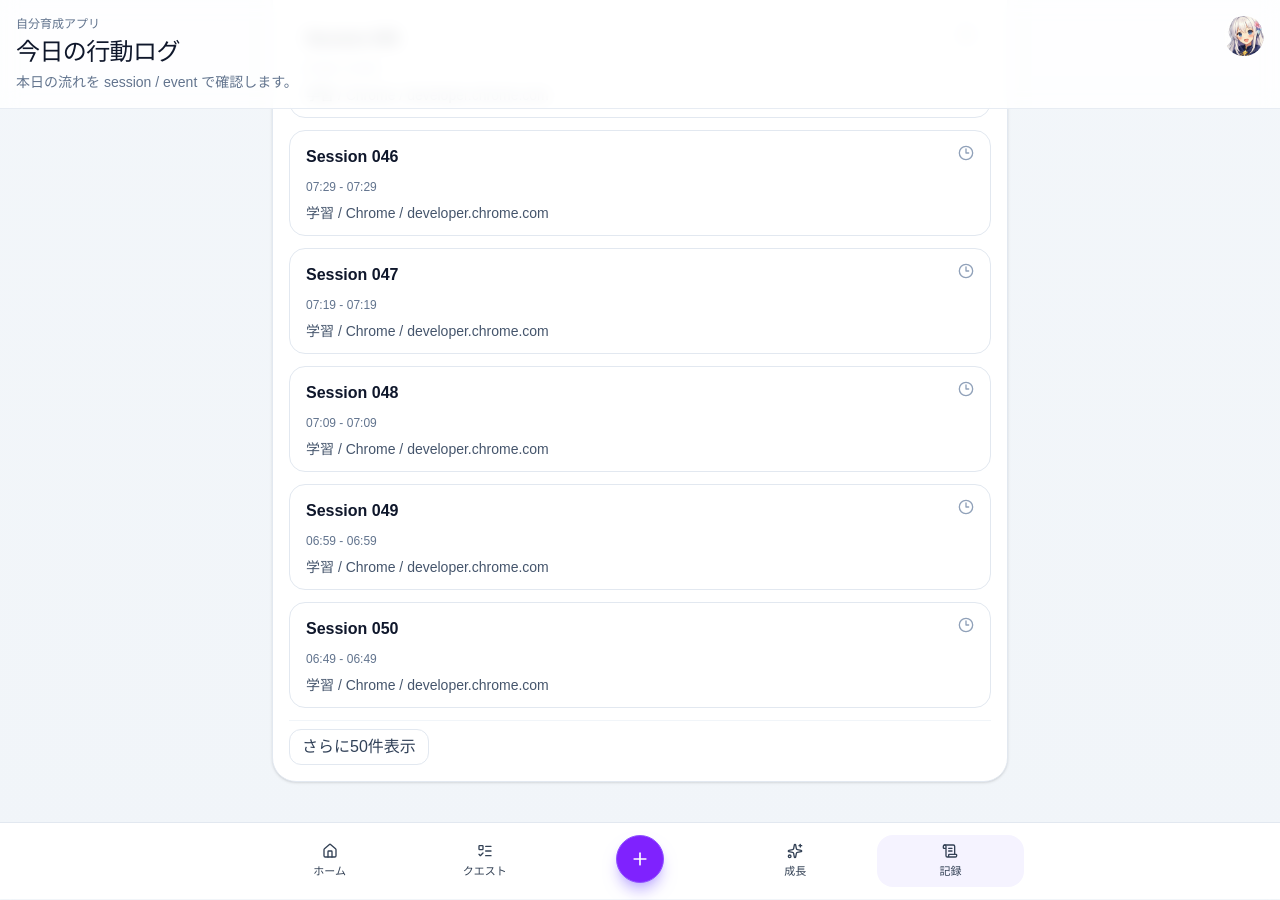
Scenario: activity log routes › keeps session and event page state separate and lazily loads the inactive view on first switch
This screenshot has width=1280, height=900.
(page scrolled)
Click the button "さらに50件表示": (359, 747) [289,729,429,765]
(page scrolled)
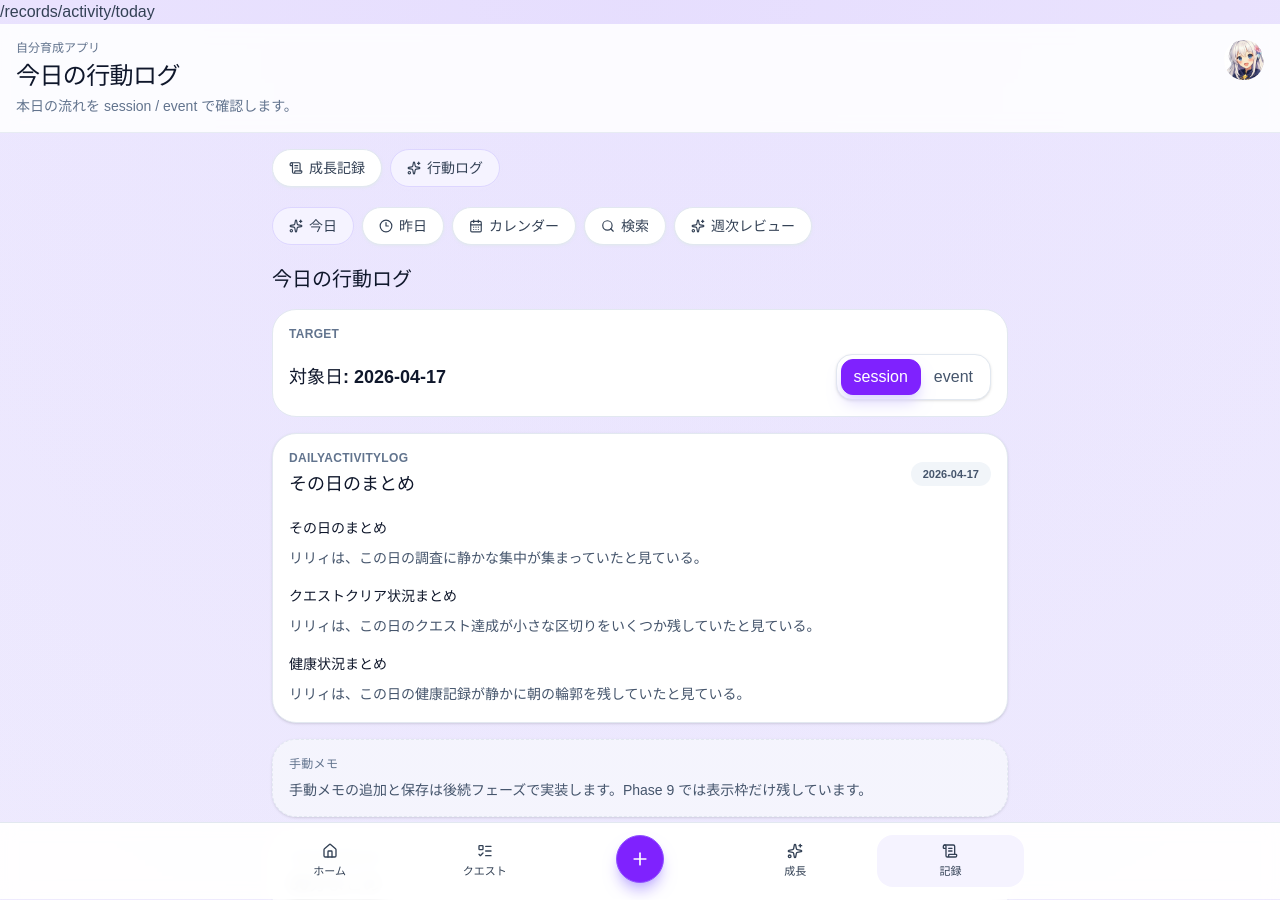
Click the button "event": (953, 377) [921,359,986,395]
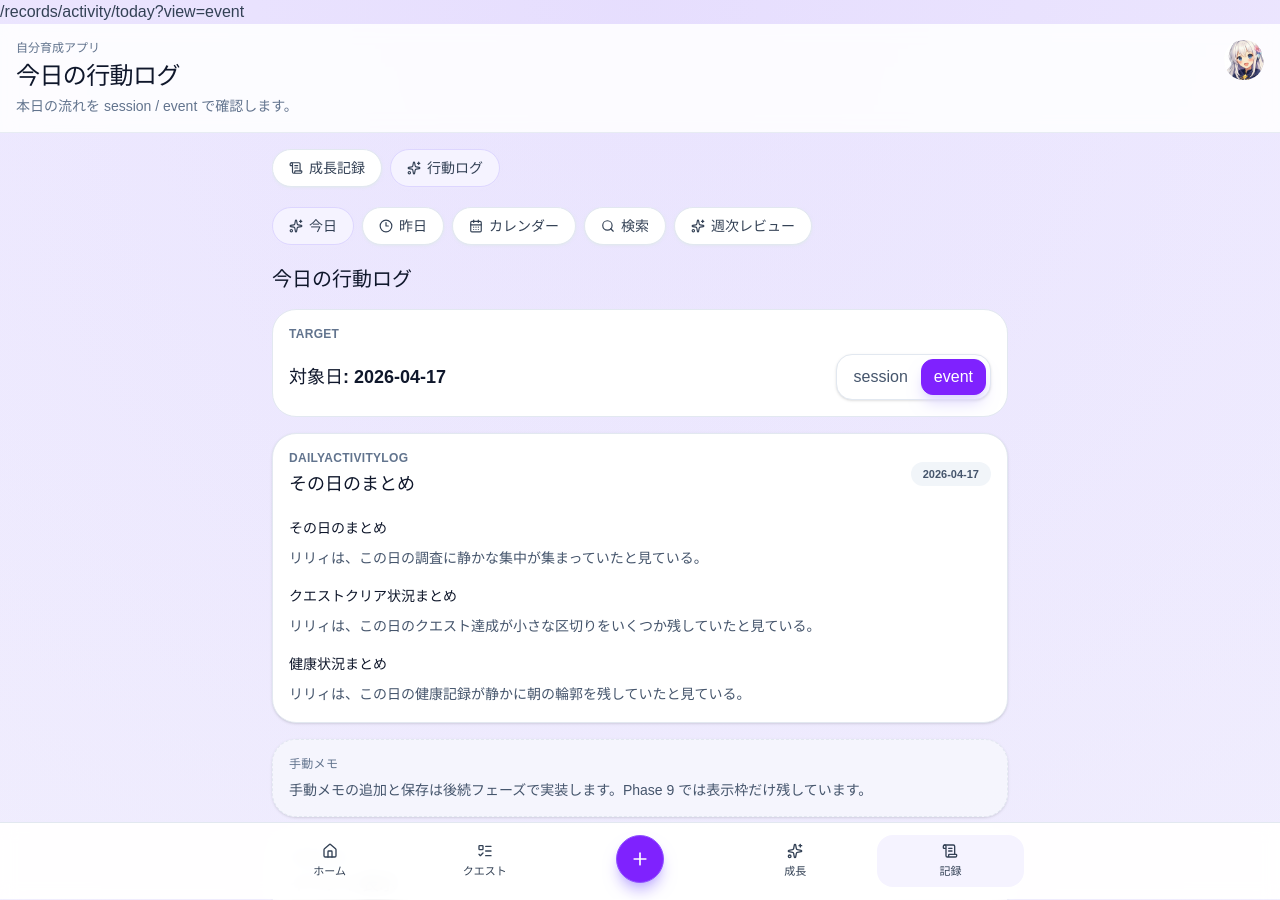
Click the button "session": (881, 377) [841,359,921,395]
(page scrolled)
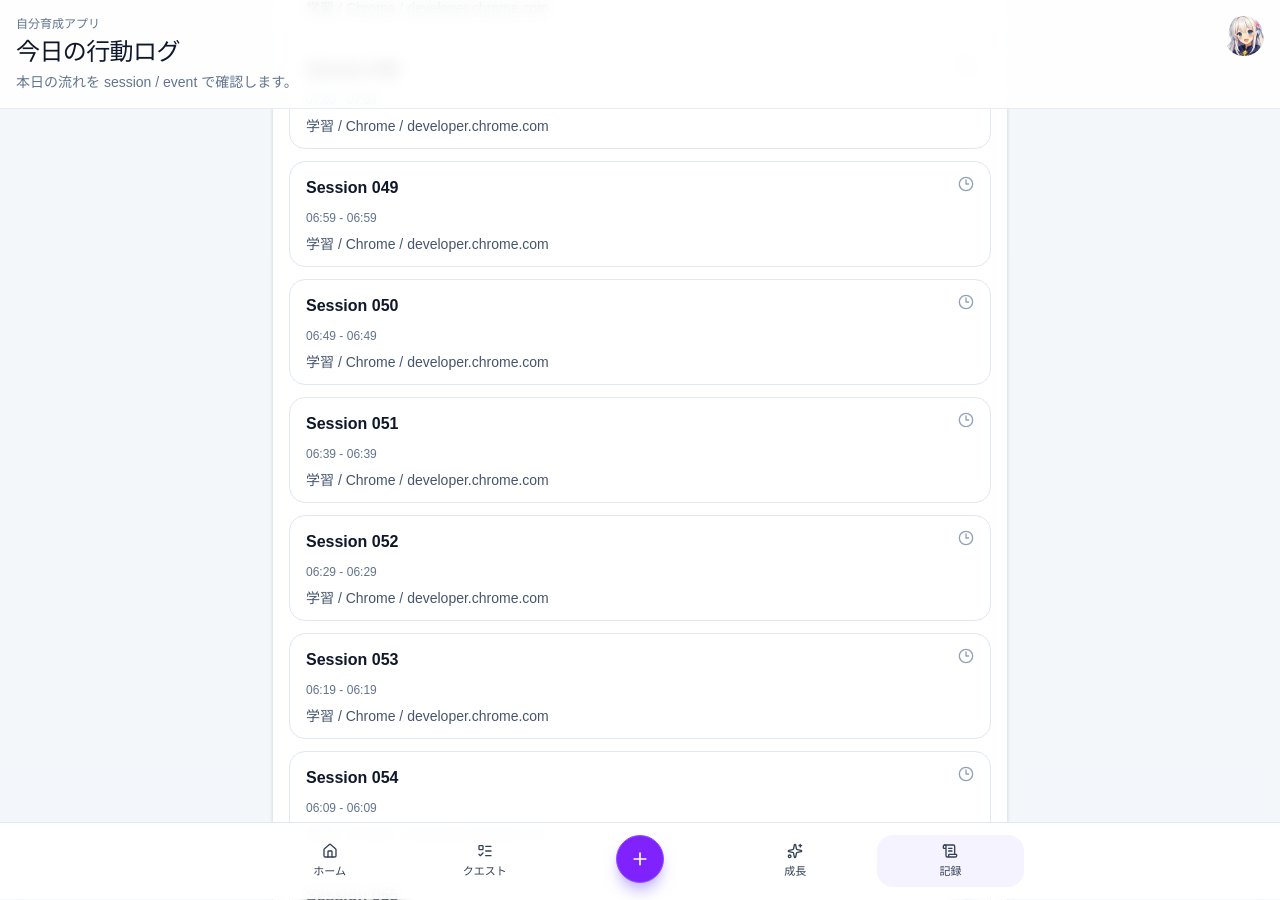
Now the element with test id "activity-session-session_051" is shown, box [289,397,991,503]
